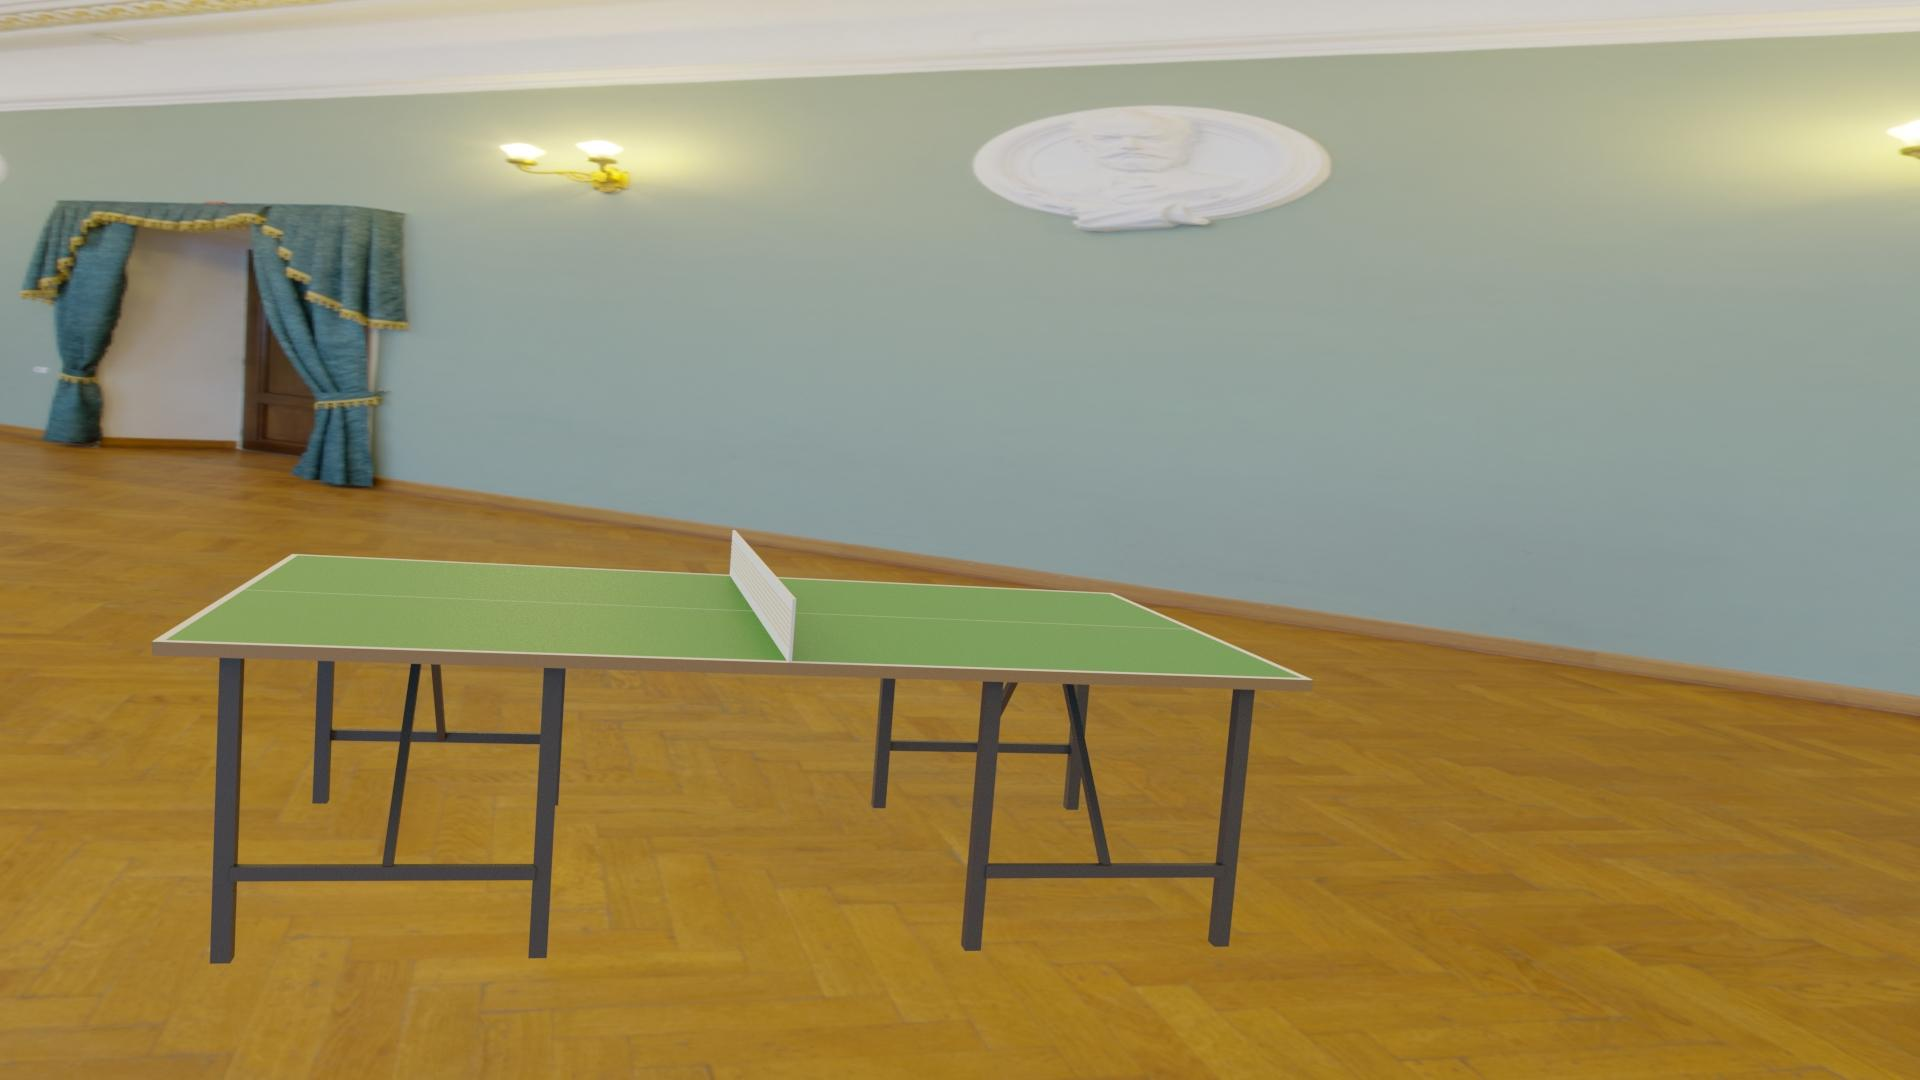table: (165, 555, 1303, 678)
